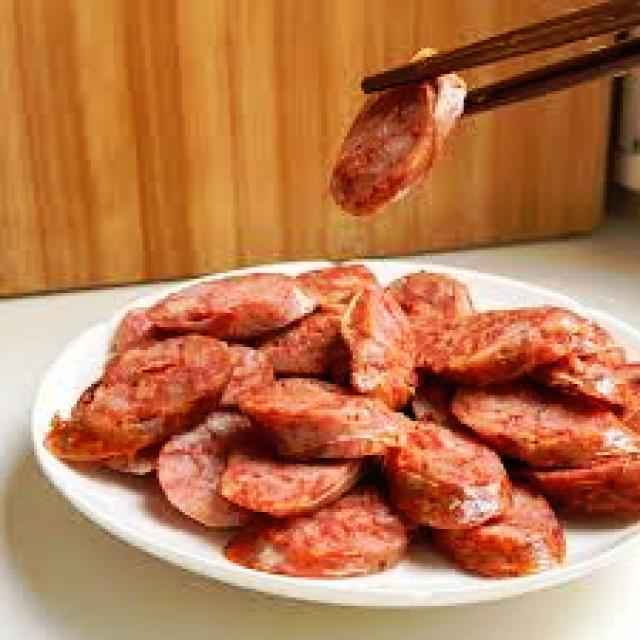chinese_sausage: (53, 263, 640, 576), (335, 47, 465, 213)
